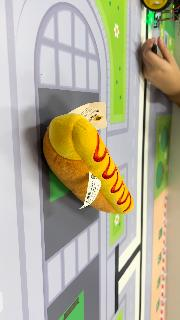hotdog: (43, 113, 135, 215)
